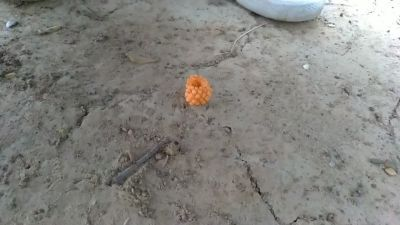eggs: (188, 73, 211, 105)
